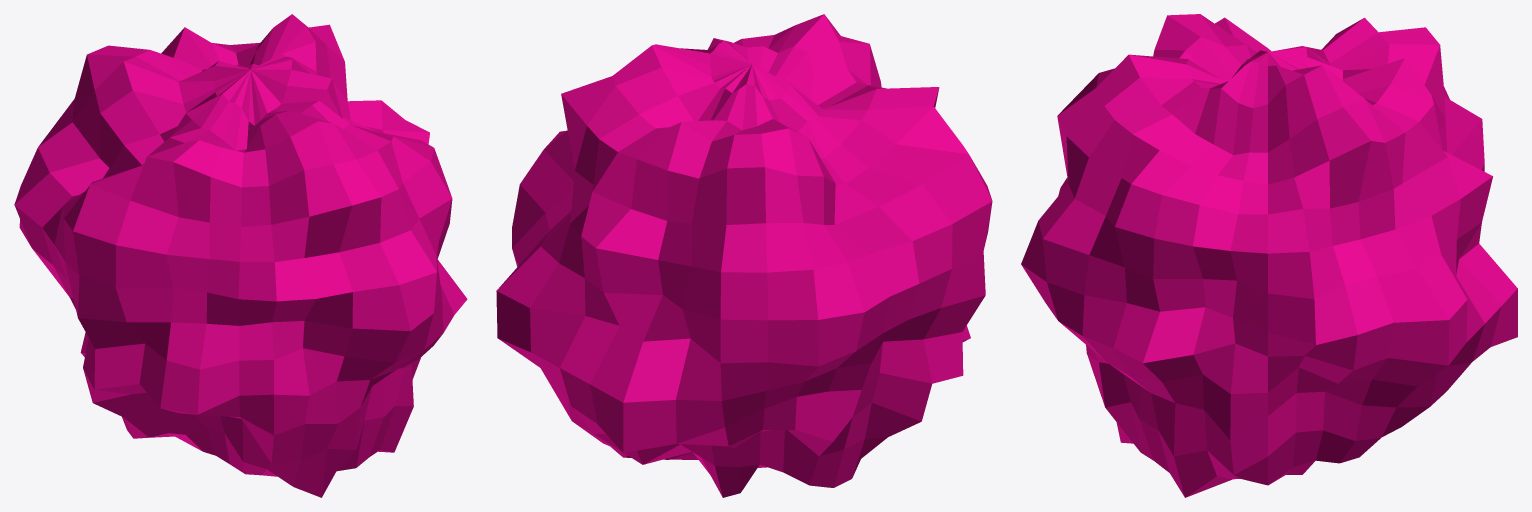
Rendered from meteoro1.fbx.
3 views of the same model, side by side, from view 1: azimuth 30°, elevation 25°; view 2: azimuth 150°, elevation 25°; view 3: azimuth 270°, elevation 25° (orthographic). The views are drawn at different scales.
Parts seen in each view (by area): view 1: Esfera; view 2: Esfera; view 3: Esfera.
Boxes of the visible parts, <box> form: Esfera: <box>14,14,467,497</box>; Esfera: <box>496,14,992,497</box>; Esfera: <box>1021,14,1517,497</box>.
Size of the model in its own units: 228 by 219 by 235.
